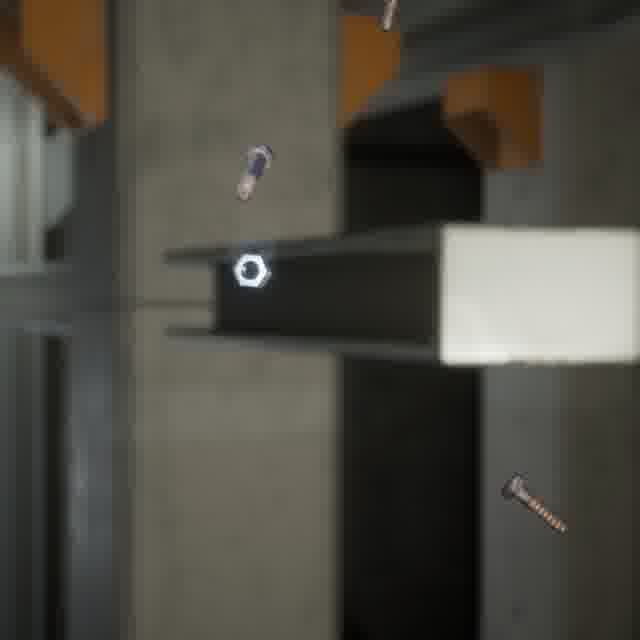bolt: (495, 467, 570, 537), (230, 138, 279, 206), (375, 0, 404, 36)
nut: (228, 249, 275, 292)
